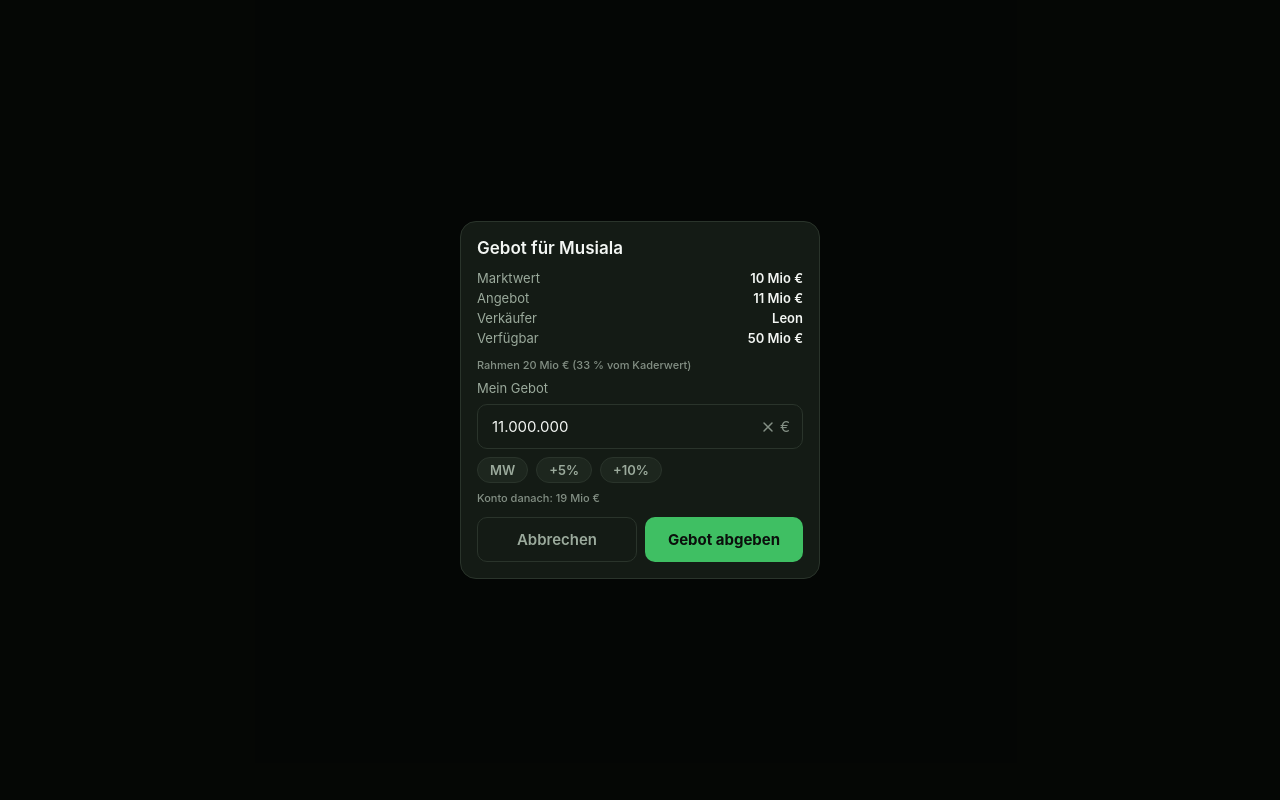
Test: OfferModal › zeigt den Fehler der Mutation und bleibt offen
The image size is (1280, 800).
Click the button "Gebot abgeben". click: click(724, 540)
box: 645,517 -> 803,562
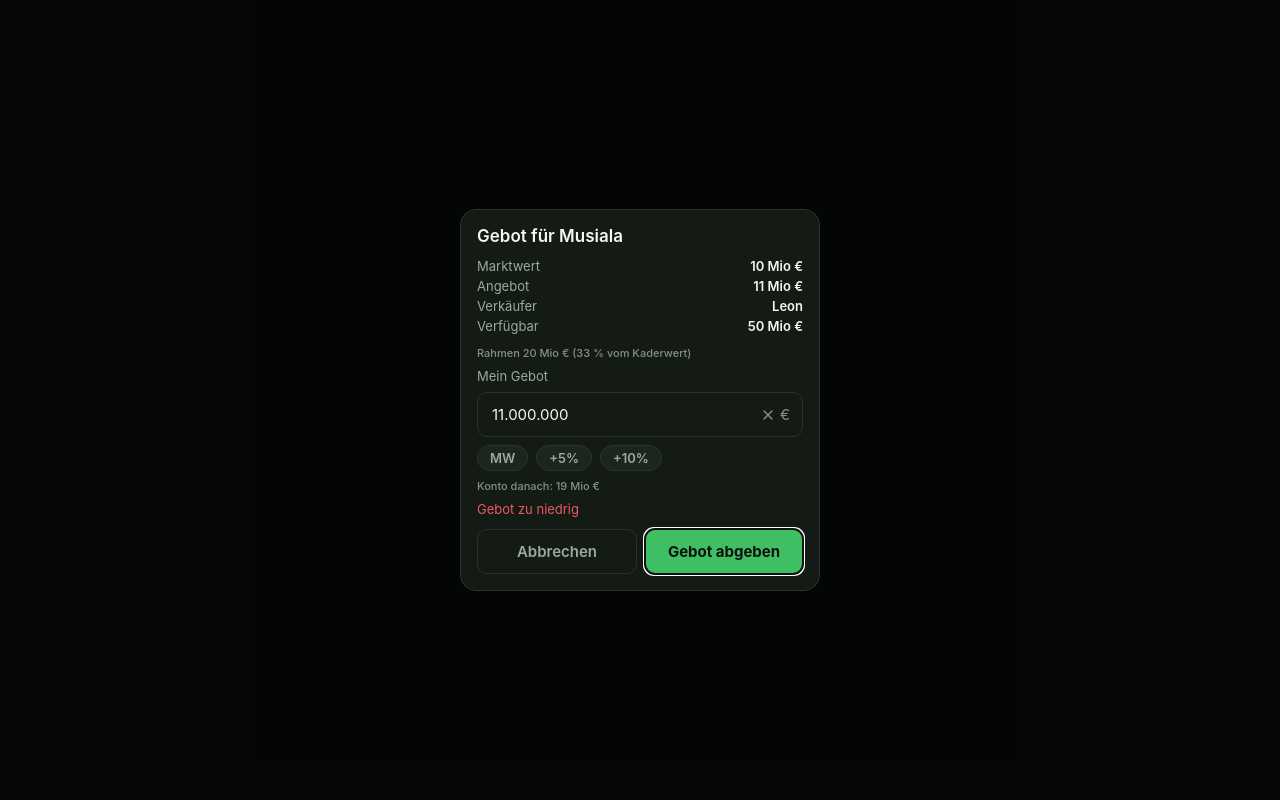
Expected: the message reads "Gebot zu niedrig", 477,501 -> 579,517
